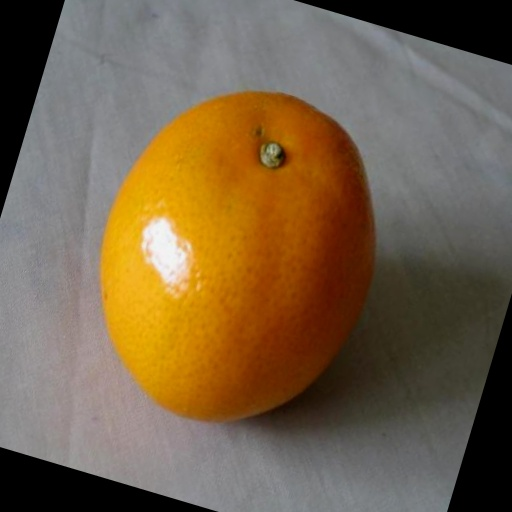fruit: (0, 69, 206, 424)
